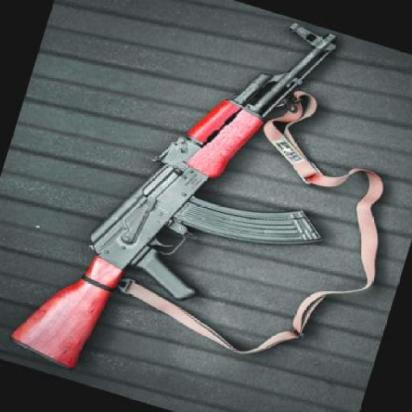Gun: (0, 0, 379, 412)
